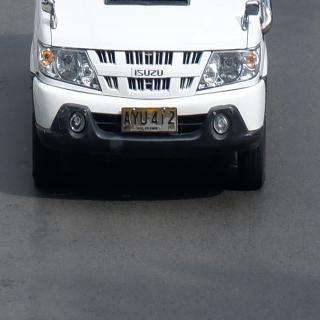license: (122, 109, 179, 134)
